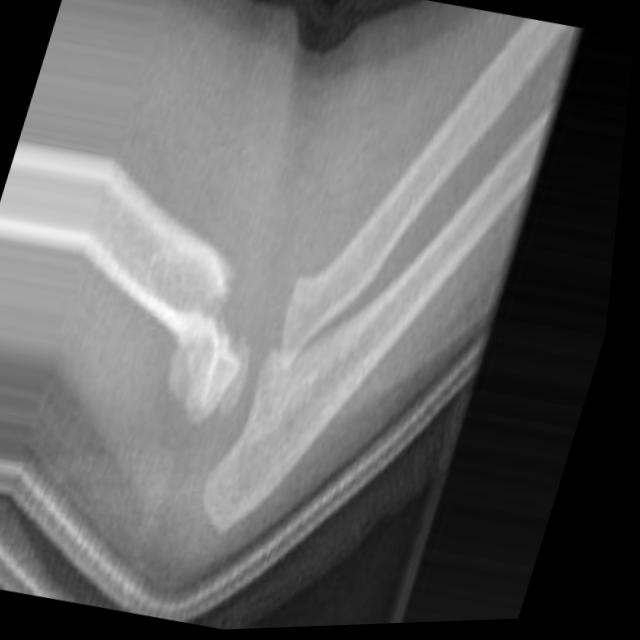fracture: (203, 250, 326, 375)
